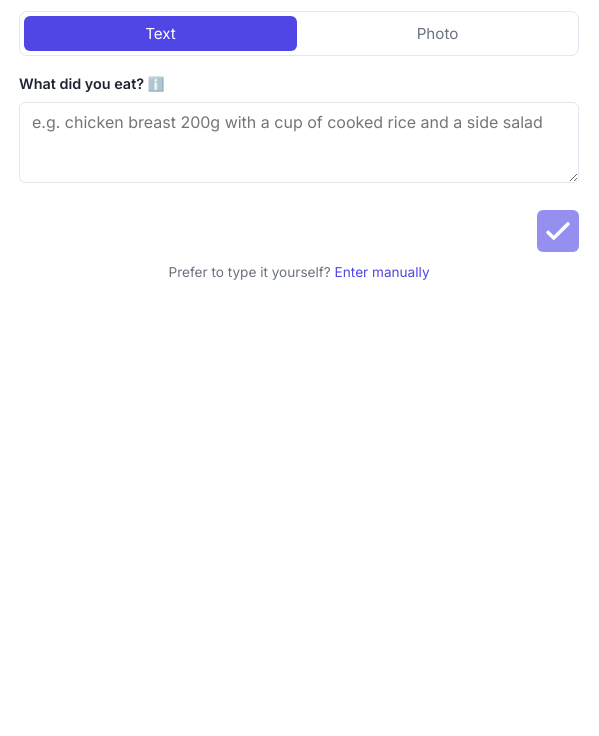
AiEntryPage › shows a save-time disclosure listing new foods
The width and height of the screenshot is (599, 736).
Type "chicken and kiwi salad" into the text box labelled "What did you eat? ℹ️".
click(299, 142); type("chicken and kiwi salad")  # box top-left (19, 102), bottom-right (579, 183)
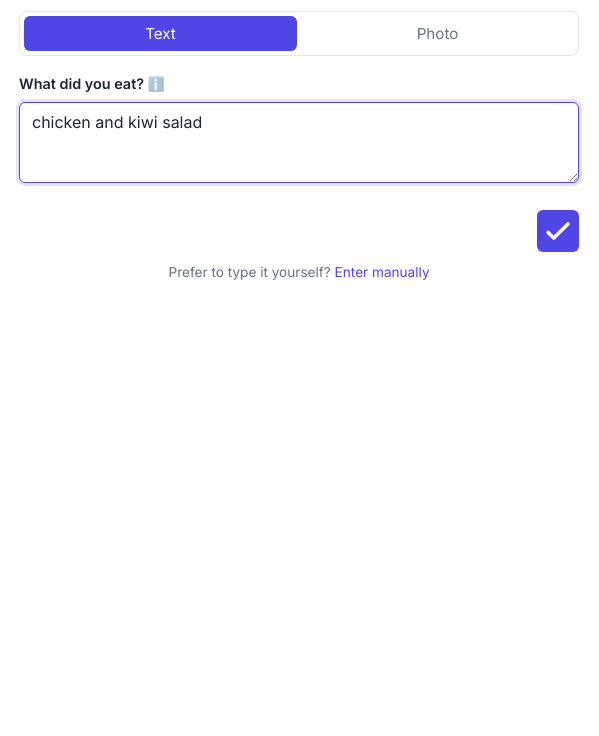
Click the button named "Estimate".
click(558, 231)  # box top-left (537, 210), bottom-right (579, 252)
(page scrolled)
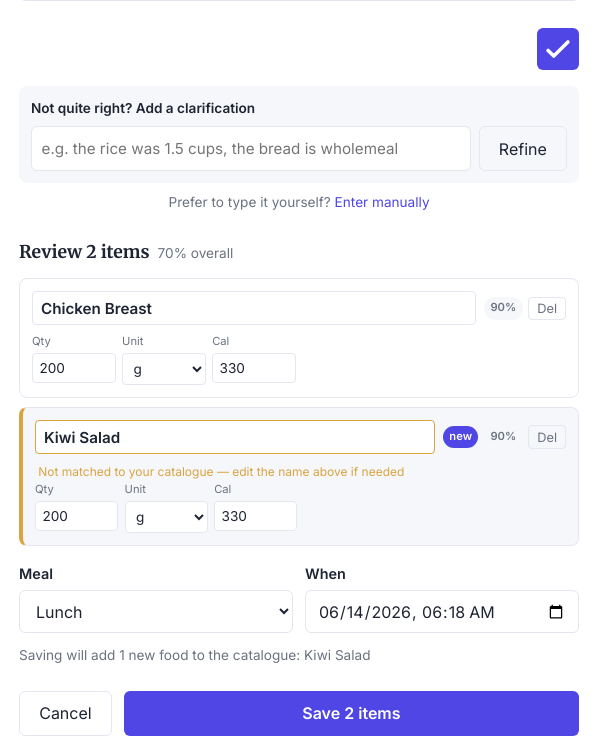
Now the 2nd field showing "Kiwi Salad" is shown, box top-left (35, 420), bottom-right (435, 454)
Now the text "Saving will add 1 new food to the catalogue: Kiwi Salad" is shown, box top-left (19, 648), bottom-right (370, 664)
